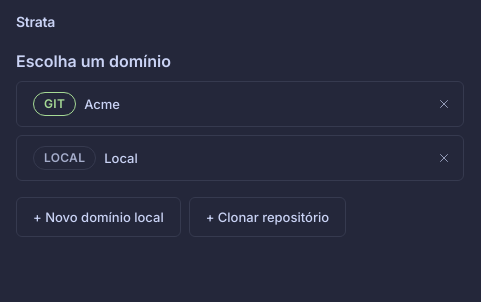
Scenario: DomainPicker › Cancelar dismisses the new-domain form
Expected: the button "Git Acme" is shown, [16,81,464,127]
Step 1. Click the button "+ Novo domínio local" → x=98, y=217, box [16,197,181,237]
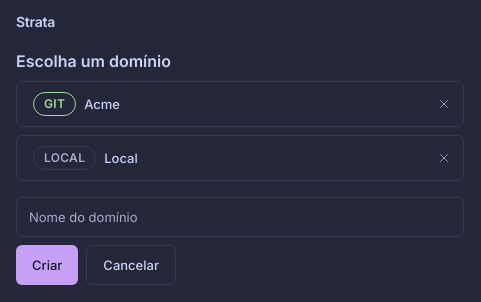
Step 2. Click the button "Cancelar" → x=131, y=265, box [86,245,176,285]
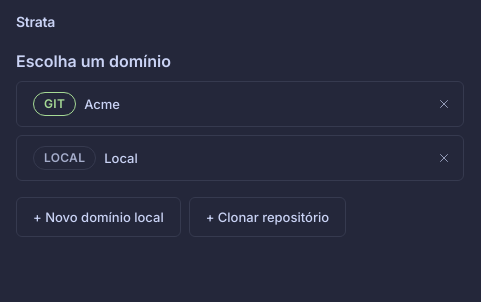
Expected: the field with placeholder "Nome do domínio" is not shown
Expected: the button "+ Novo domínio local" is shown, [16,197,181,237]
